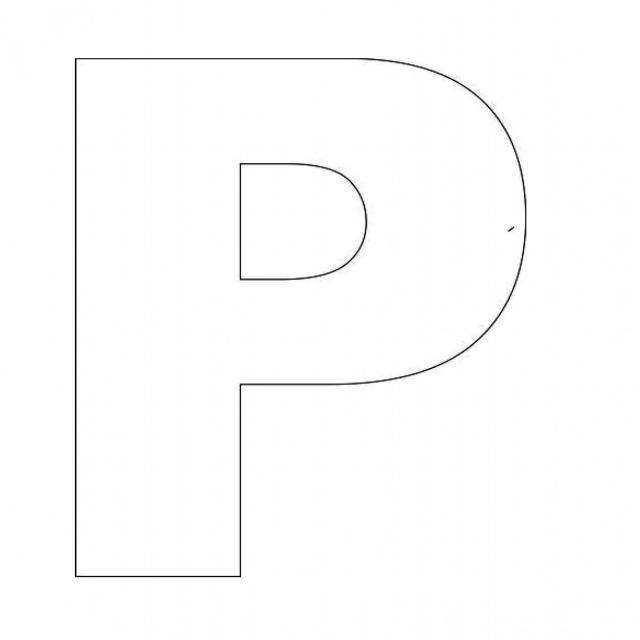P: (48, 34, 568, 624)
